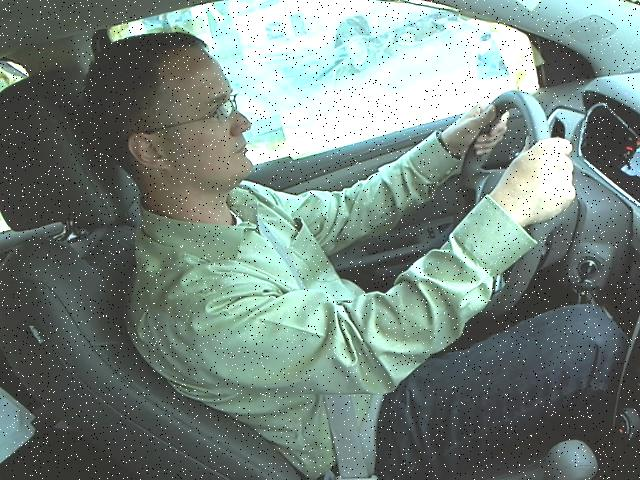c0 - Safe Driving: (76, 32, 594, 394)
